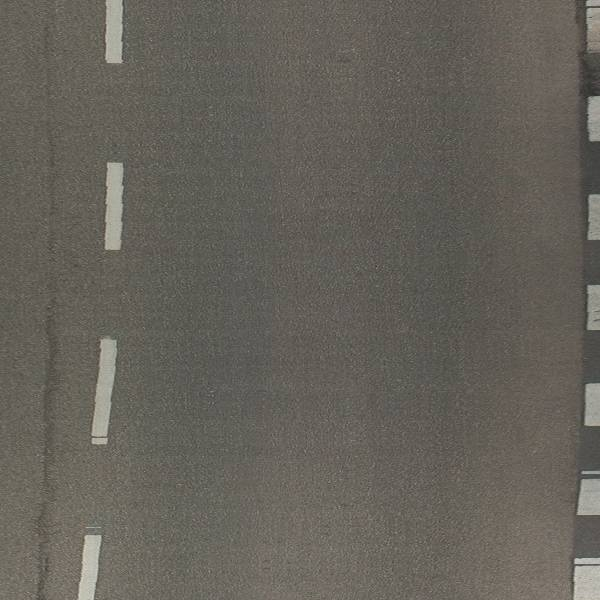road_damage: (25, 127, 63, 600)
